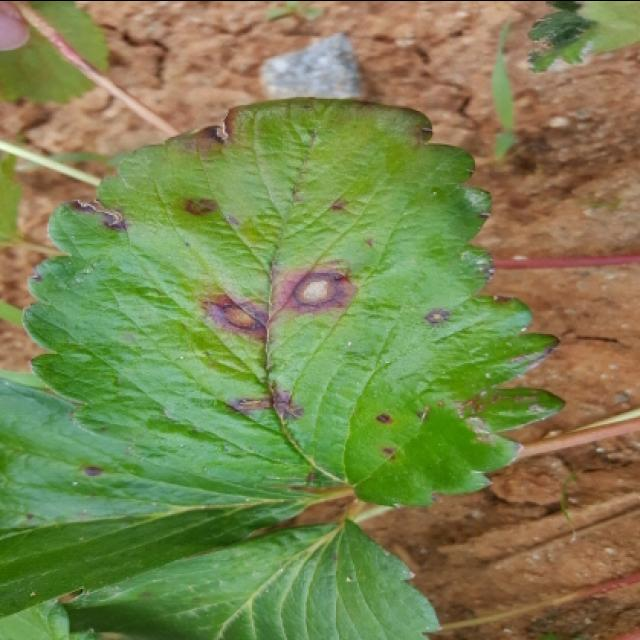Leaf Spot: (21, 96, 568, 510), (0, 371, 329, 619)
